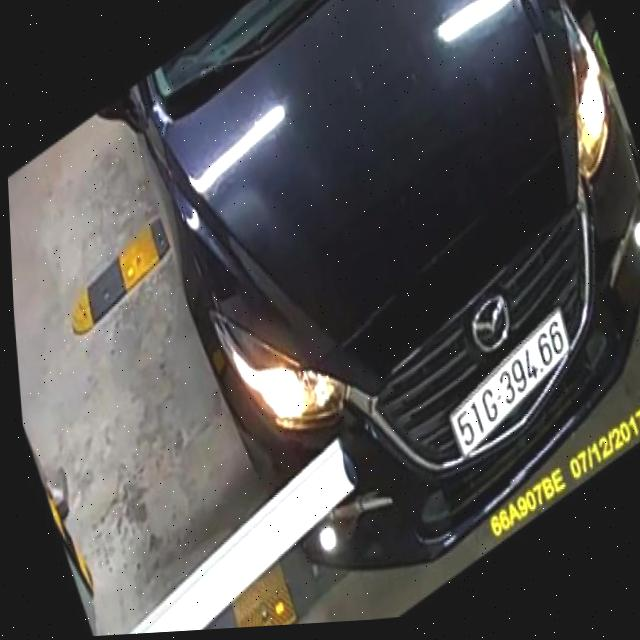car: (86, 0, 640, 571)
plate: (442, 298, 576, 464)
